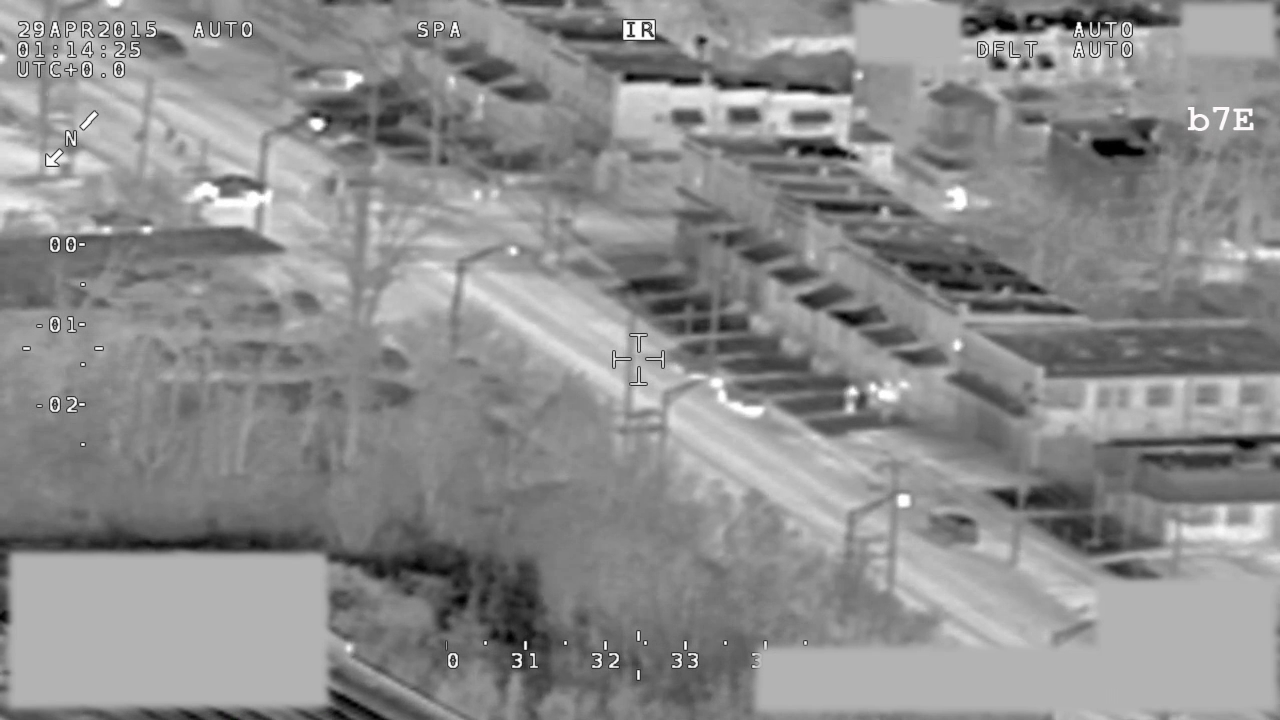vehicle: (192, 172, 274, 208)
